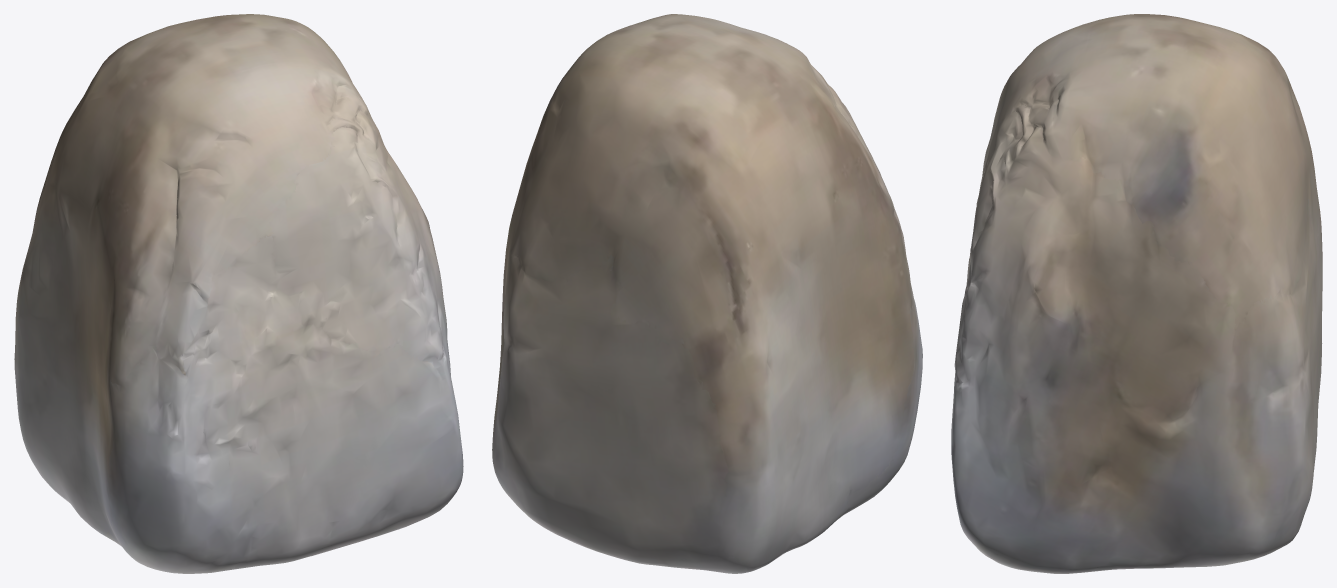
File: 1tooth-web.glb
3 renders of one model, left to right at view 1: azimuth 30°, elevation 25°; view 2: azimuth 150°, elevation 25°; view 3: azimuth 270°, elevation 25°, orthographic. The views are drawn at different scales.
Visible parts, largest first — view 1: model; view 2: model; view 3: model.
Part boxes in pixels (x1,y1,x2,y2): model: (14,14,463,573); model: (492,14,922,573); model: (951,14,1322,573).
Size of the model in its own units: 1.39 by 1.89 by 1.32.
Materials: 1 (1 with a texture image).
